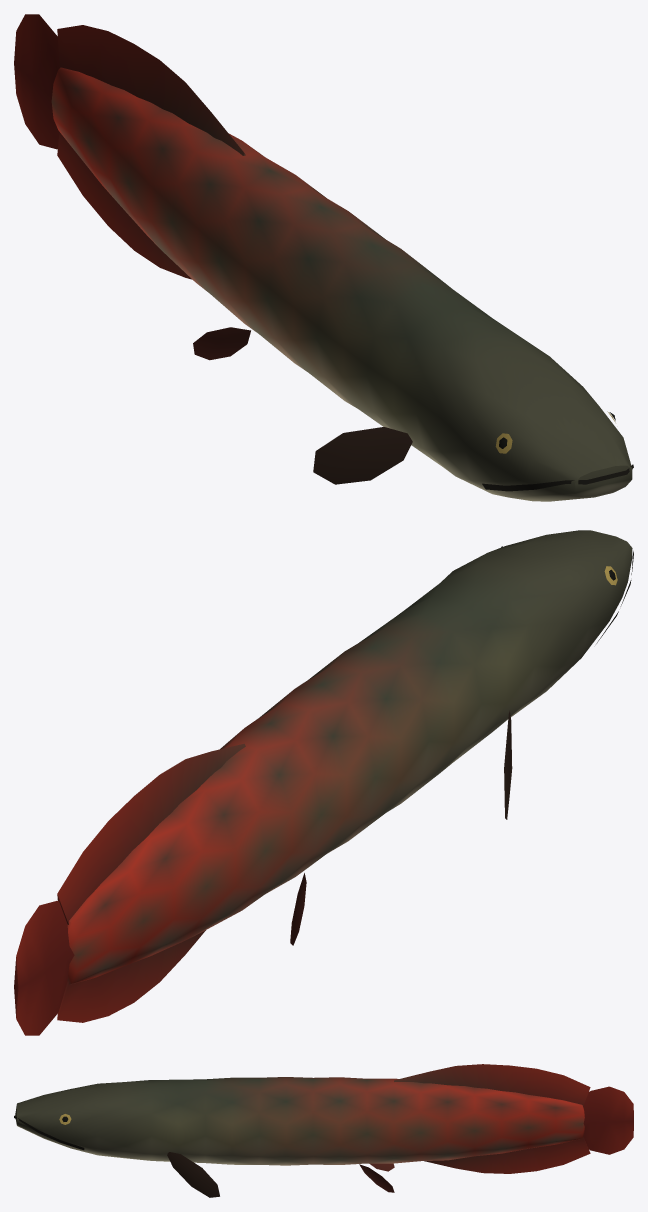
The model's file is fish.glb.
3 views of the same model, one above another, from view 1: azimuth 30°, elevation 25°; view 2: azimuth 150°, elevation 25°; view 3: azimuth 270°, elevation 25° (orthographic). The views are drawn at different scales.
Visible parts, largest first — view 1: fish; view 2: fish; view 3: fish.
Part boxes in pixels (left/top/right/bottom): fish: left=14, top=14, right=633, bottom=501; fish: left=14, top=530, right=633, bottom=1035; fish: left=14, top=1064, right=633, bottom=1197.
Size of the model in its own units: 0.4367 by 0.4828 by 2.3.
